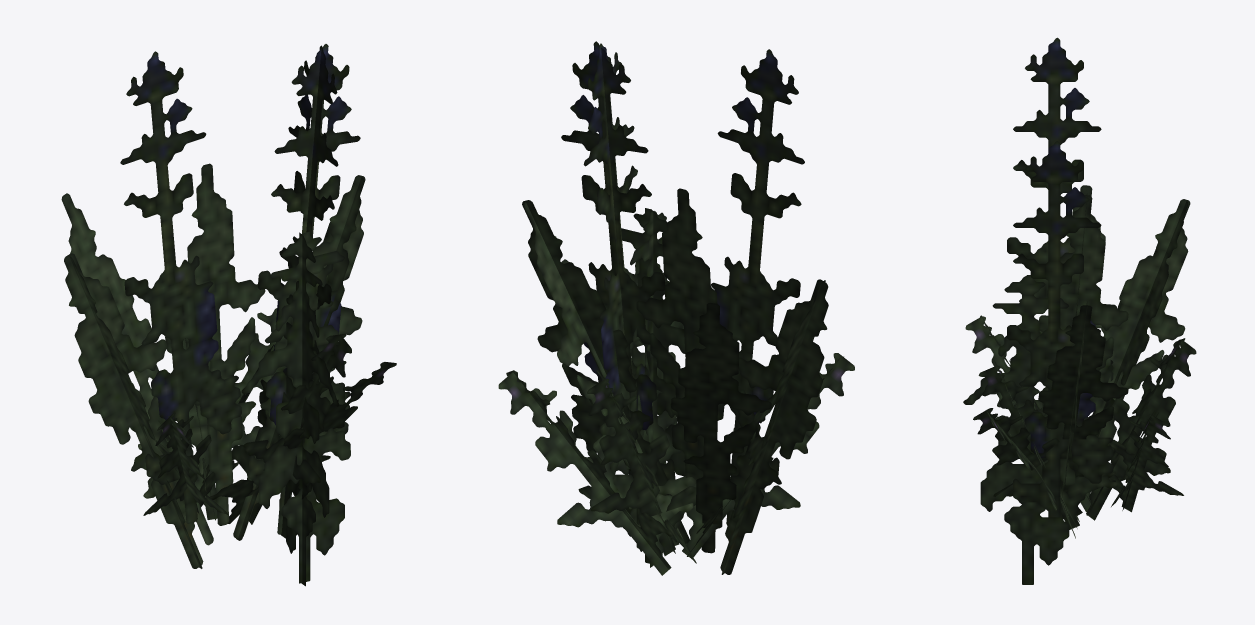
The model's file is SM_EC_Plant_Bush_05.fbx.
3 renders of one model, left to right at view 1: azimuth 30°, elevation 25°; view 2: azimuth 150°, elevation 25°; view 3: azimuth 270°, elevation 25°, orthographic. The views are drawn at different scales.
Visible parts, largest first — view 1: SM_EC_Plant_Bush_05; view 2: SM_EC_Plant_Bush_05; view 3: SM_EC_Plant_Bush_05.
Boxes of the visible parts, <box> form: SM_EC_Plant_Bush_05: <box>61,44,396,586</box>; SM_EC_Plant_Bush_05: <box>498,41,854,575</box>; SM_EC_Plant_Bush_05: <box>963,37,1196,584</box>.
Bounding box in the file's own units: 1.04 × 0.8321 × 1.45.
